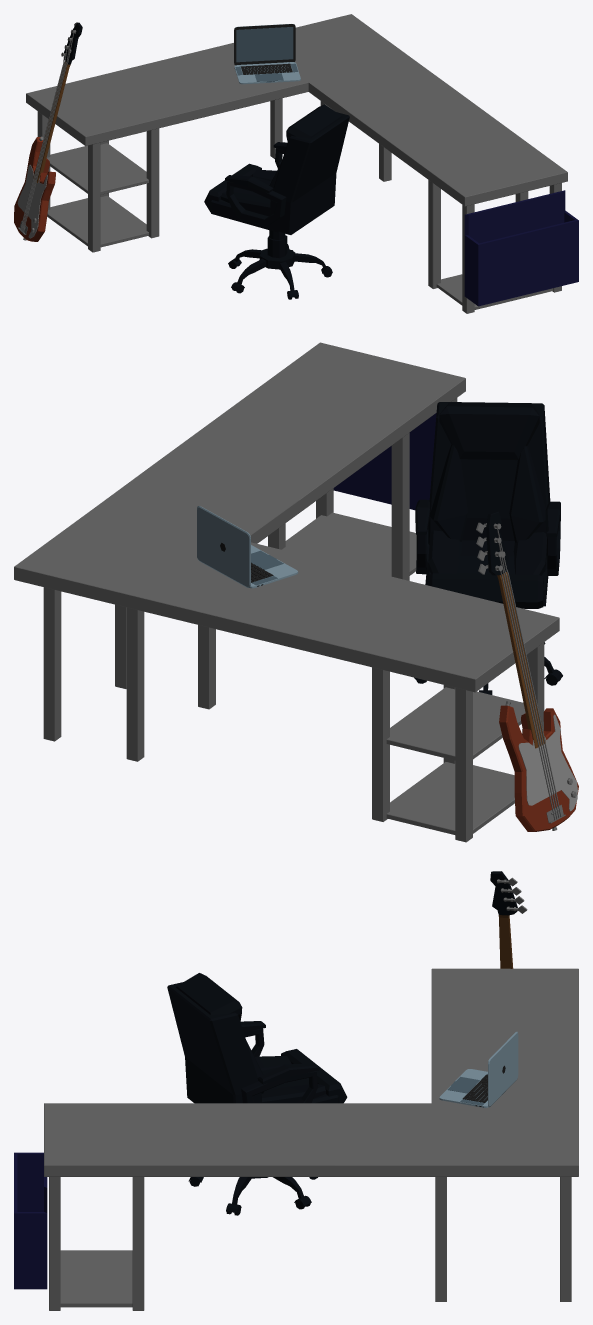
Rendered from Desk-set.glb.
The picture shows the model from 3 angles, top to bottom: view 1: azimuth 30°, elevation 25°; view 2: azimuth 150°, elevation 25°; view 3: azimuth 270°, elevation 25°; orthographic projection. The views are drawn at different scales.
Visible parts, largest first — view 1: LShapedDesk, ExecutiveChair1, Bass, mac_top, mac_bottom; view 2: LShapedDesk, ExecutiveChair1, Bass, mac_top, mac_bottom; view 3: LShapedDesk, ExecutiveChair1, Bass, mac_top, mac_bottom.
Part boxes in pixels (<box>): LShapedDesk: <box>26,14,578,313</box>; ExecutiveChair1: <box>204,104,349,299</box>; Bass: <box>14,22,82,241</box>; mac_top: <box>234,24,295,65</box>; mac_bottom: <box>234,62,300,84</box>; LShapedDesk: <box>14,342,559,842</box>; ExecutiveChair1: <box>414,402,562,694</box>; Bass: <box>476,511,578,831</box>; mac_top: <box>197,506,250,587</box>; mac_bottom: <box>250,545,298,588</box>; LShapedDesk: <box>14,968,578,1310</box>; ExecutiveChair1: <box>167,973,347,1215</box>; Bass: <box>490,871,527,968</box>; mac_top: <box>488,1031,518,1107</box>; mac_bottom: <box>439,1069,488,1107</box>.
Bounding box in the file's own units: 2.71 × 1.5 × 2.98.
